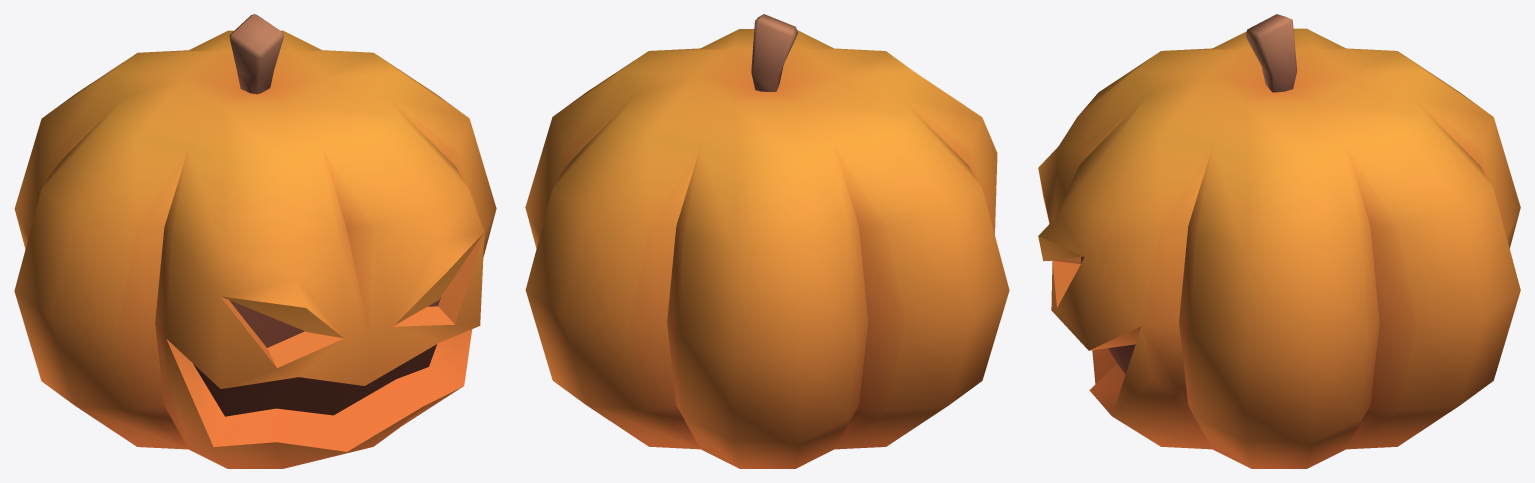
Rendered from Pumpkin_.fbx.
The picture shows the model from 3 angles, left to right: view 1: azimuth 30°, elevation 25°; view 2: azimuth 150°, elevation 25°; view 3: azimuth 270°, elevation 25°; orthographic projection.
Parts seen in each view (by area): view 1: Pumpkin; view 2: Pumpkin; view 3: Pumpkin.
Boxes of the visible parts, bbox=[...] form: Pumpkin: bbox=[14, 14, 496, 468]; Pumpkin: bbox=[525, 14, 1009, 468]; Pumpkin: bbox=[1038, 14, 1520, 468].
Bounding box in the file's own units: 80.04 × 69.37 × 74.7.
